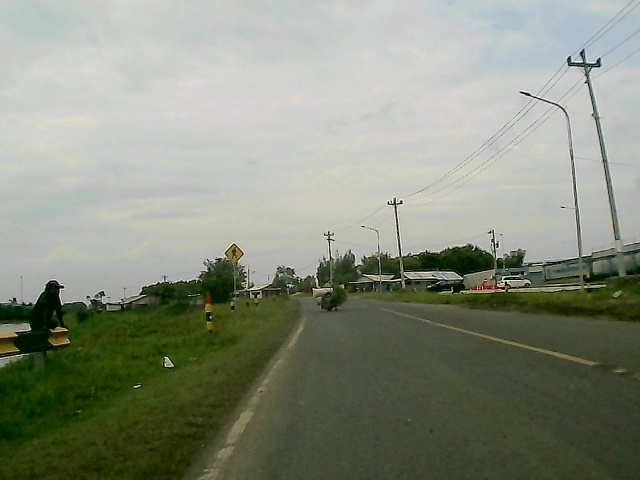Peringatan orang menyeberang: (223, 241, 244, 264)
